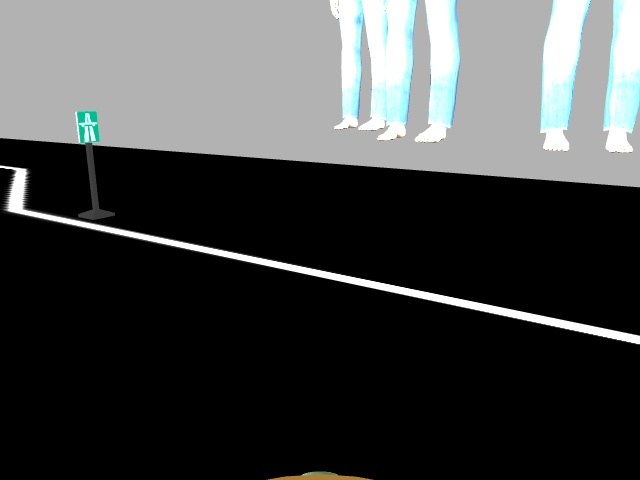HighwayEntrance: (75, 111, 98, 142)
